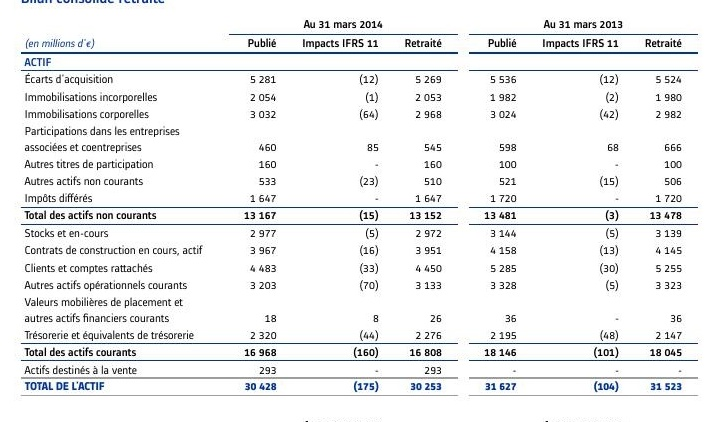table: (0, 0, 715, 422)
